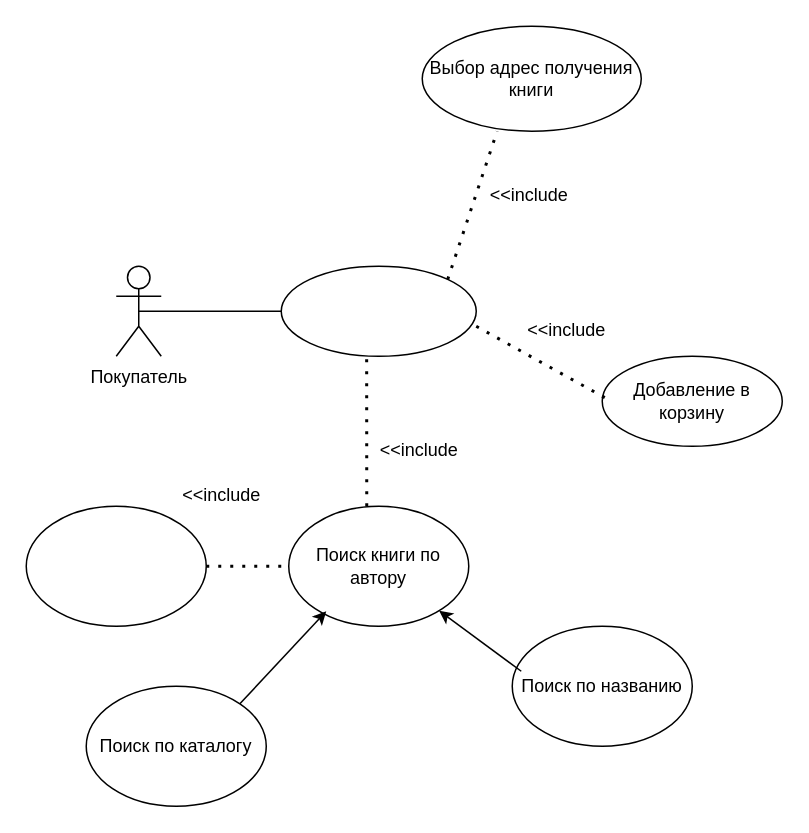
Image size: 809x833. Some labels were removed from this diagram. Here are the shapes that lost their labels. From the top down, the centre of each, then its label:
pixel 378 310: Выбор товара
pixel 115 565: Выбрать год издания книги, автора, издательство
